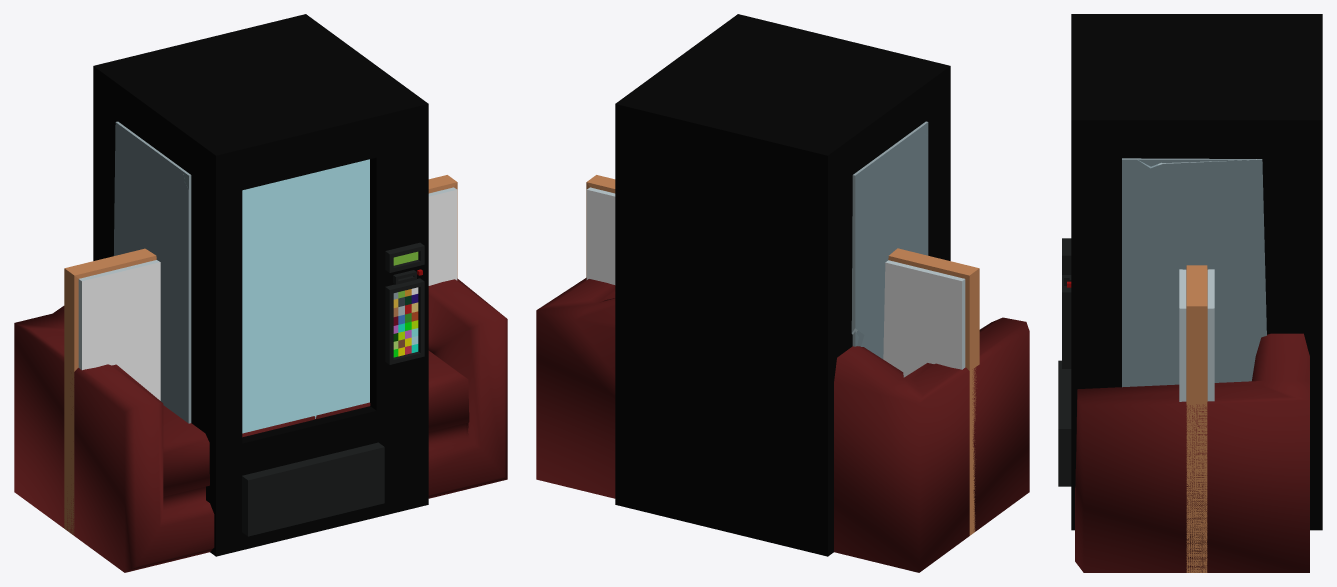
File: Props.fbx
3 renders of one model, left to right at view 1: azimuth 30°, elevation 25°; view 2: azimuth 150°, elevation 25°; view 3: azimuth 270°, elevation 25°, orthographic. The views are drawn at different scales.
Parts seen in each view (by area): view 1: VendingMachine, Couch, CubicalWall, FileCabinet_Damaged, FileCabinet; view 2: VendingMachine, Couch, CubicalWall, FileCabinet_Damaged; view 3: VendingMachine, Couch, FileCabinet_Damaged, CubicalWall, FileCabinet.
Part boxes in pixels (x1,y1,x2,y2): VendingMachine: (93,14,428,556); Couch: (14,278,507,572); CubicalWall: (64,175,457,535); FileCabinet_Damaged: (113,122,191,423); FileCabinet: (116,121,191,423); VendingMachine: (615,14,950,556); Couch: (536,277,1029,572); CubicalWall: (586,175,979,535); FileCabinet_Damaged: (851,126,928,358); VendingMachine: (1058,14,1322,530); Couch: (1075,333,1309,572); FileCabinet_Damaged: (1122,158,1266,387); CubicalWall: (1179,265,1214,572); FileCabinet: (1138,158,1262,166).
Size of the model in its own units: 200 by 203 by 117.
1 material, 1 textured.
